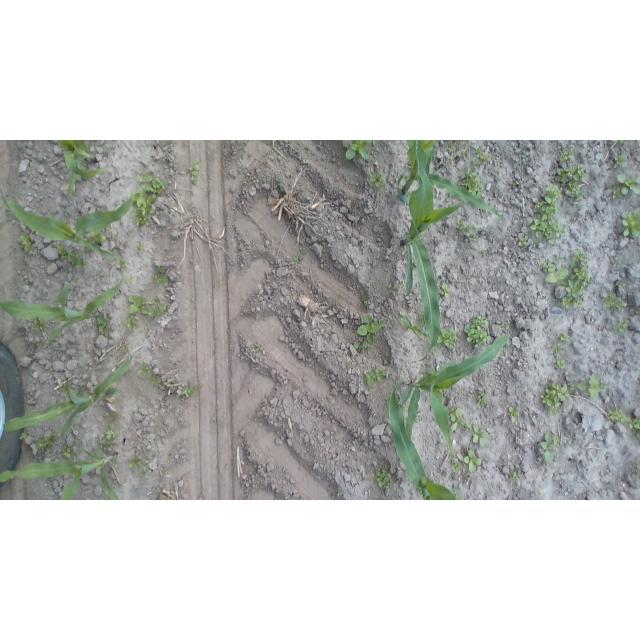Maize: (399, 141, 465, 362), (398, 335, 508, 464), (4, 355, 133, 438), (0, 186, 144, 258), (0, 274, 124, 347), (396, 141, 505, 224), (388, 376, 456, 500), (1, 436, 120, 500), (56, 140, 109, 197), (398, 314, 438, 355)
Weeds: (527, 183, 565, 245), (556, 248, 592, 308), (132, 178, 168, 226), (558, 164, 588, 201), (540, 382, 570, 415), (465, 316, 492, 349), (57, 244, 86, 272), (577, 374, 607, 399), (538, 433, 561, 464), (461, 167, 483, 199), (612, 174, 640, 199), (357, 314, 382, 342), (621, 208, 640, 239), (141, 298, 167, 319), (447, 407, 470, 430), (345, 140, 371, 160), (603, 291, 627, 311), (374, 469, 395, 490), (437, 328, 458, 349), (364, 368, 387, 387), (464, 450, 482, 473), (37, 433, 56, 454), (473, 425, 489, 448), (606, 409, 631, 423), (368, 171, 385, 190), (128, 296, 145, 315), (546, 269, 569, 283), (456, 220, 474, 237), (189, 157, 200, 183), (443, 141, 457, 160), (560, 147, 576, 163), (476, 148, 491, 165), (124, 315, 139, 332), (61, 445, 75, 463), (91, 228, 106, 244), (31, 317, 46, 332), (614, 319, 630, 333), (105, 424, 119, 440), (20, 233, 32, 251), (630, 418, 640, 439), (127, 455, 141, 470), (148, 374, 162, 388), (508, 407, 521, 422), (541, 260, 556, 273), (136, 172, 152, 184), (354, 342, 373, 352), (421, 366, 436, 378), (98, 321, 110, 336), (138, 364, 153, 376), (554, 356, 567, 369), (181, 384, 194, 397), (155, 273, 168, 286), (476, 392, 488, 406), (100, 439, 114, 451), (509, 470, 521, 483), (615, 154, 626, 168), (140, 462, 149, 479), (74, 386, 86, 398), (115, 258, 127, 269), (250, 342, 263, 352), (519, 235, 530, 246), (441, 284, 449, 299), (451, 461, 463, 471), (454, 488, 464, 500), (552, 343, 564, 353), (558, 332, 570, 342), (164, 379, 176, 389), (360, 292, 368, 307), (135, 242, 145, 253), (419, 311, 426, 326), (393, 281, 403, 291), (612, 258, 623, 267), (375, 319, 386, 327), (120, 344, 129, 353), (235, 162, 241, 174), (502, 321, 510, 329), (472, 159, 480, 167), (470, 233, 478, 241), (19, 431, 27, 439), (294, 257, 303, 264), (385, 395, 391, 405), (103, 146, 110, 154), (124, 277, 132, 284), (392, 494, 401, 500), (617, 281, 624, 288), (337, 488, 343, 496), (481, 249, 487, 257), (157, 266, 165, 272), (400, 406, 406, 413), (414, 416, 420, 423), (459, 148, 466, 154), (301, 249, 308, 255), (110, 414, 116, 421), (535, 490, 541, 497), (570, 384, 576, 390), (93, 450, 99, 455), (620, 140, 627, 144), (637, 461, 640, 470), (60, 387, 65, 392), (126, 228, 131, 232), (516, 181, 521, 185), (145, 328, 149, 333), (198, 386, 202, 391), (241, 152, 244, 158), (611, 140, 617, 142), (39, 254, 42, 258)
